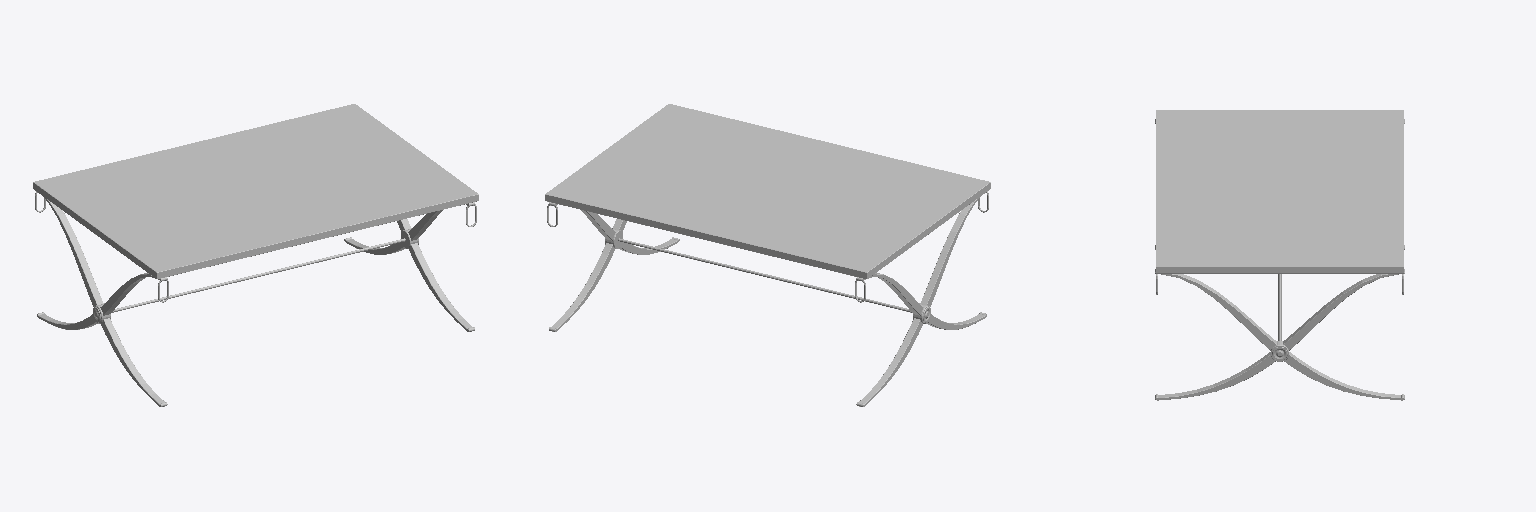
The model's file is tavolo_vetro.obj.
3 renders of one model, left to right at view 1: azimuth 30°, elevation 25°; view 2: azimuth 150°, elevation 25°; view 3: azimuth 270°, elevation 25°, orthographic.
Visible parts, largest first — view 1: Rectangle01, Line05, Cylinder01; view 2: Rectangle01, Line05, Cylinder01; view 3: Rectangle01, Line05.
Part boxes in pixels (bbox=[...]): Rectangle01: bbox=[33, 104, 478, 278]; Line05: bbox=[37, 196, 474, 406]; Cylinder01: bbox=[112, 238, 405, 312]; Rectangle01: bbox=[545, 104, 990, 278]; Line05: bbox=[549, 196, 986, 406]; Cylinder01: bbox=[618, 238, 911, 312]; Rectangle01: bbox=[1156, 110, 1403, 273]; Line05: bbox=[1155, 119, 1404, 400].
Size of the model in its own units: 1200 by 484 by 805.